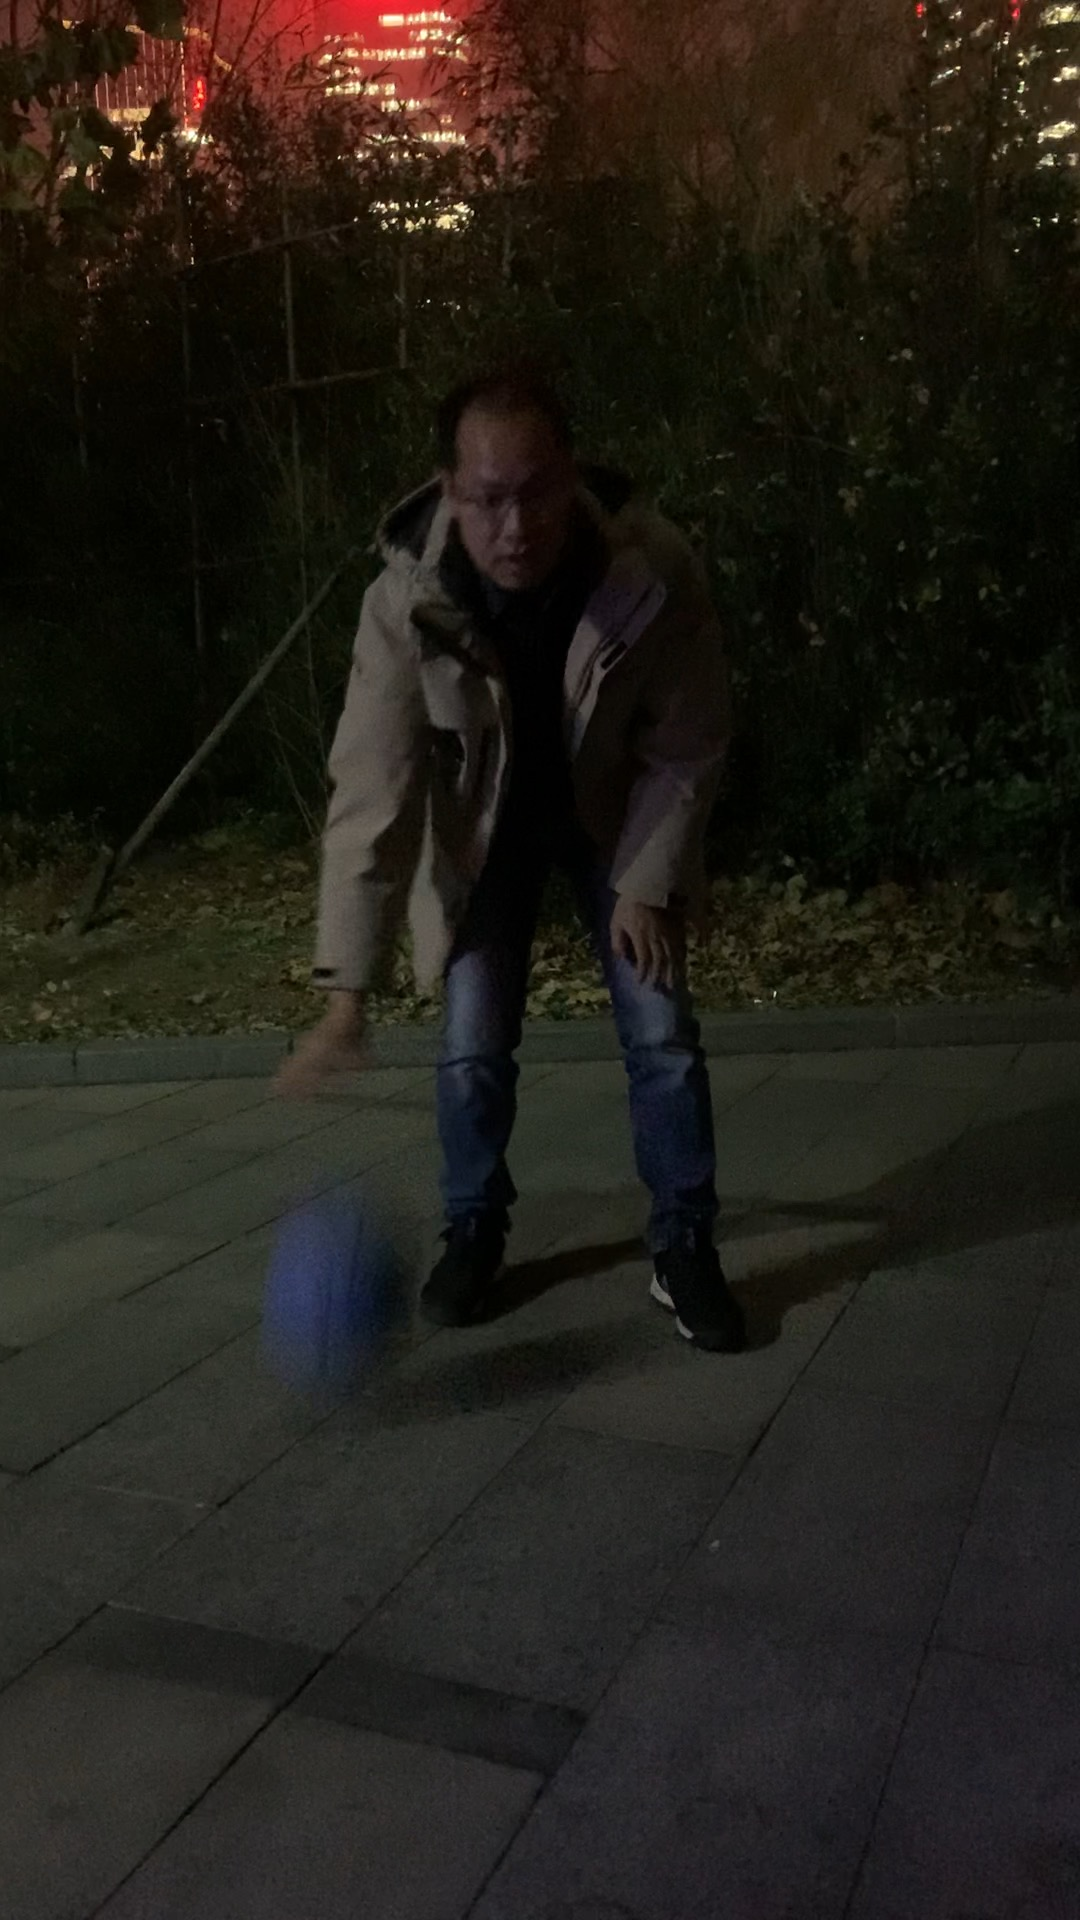ball: (255, 1218, 430, 1371)
